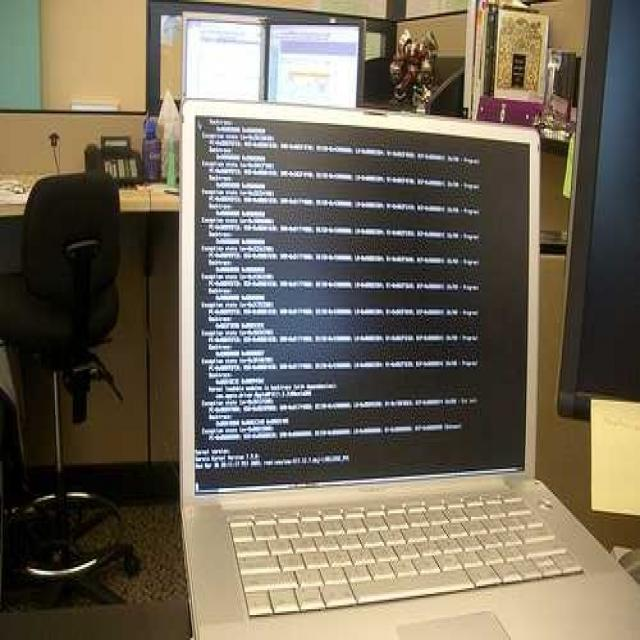laptop: (190, 98, 640, 640)
